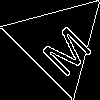M: (33, 17, 95, 79)
